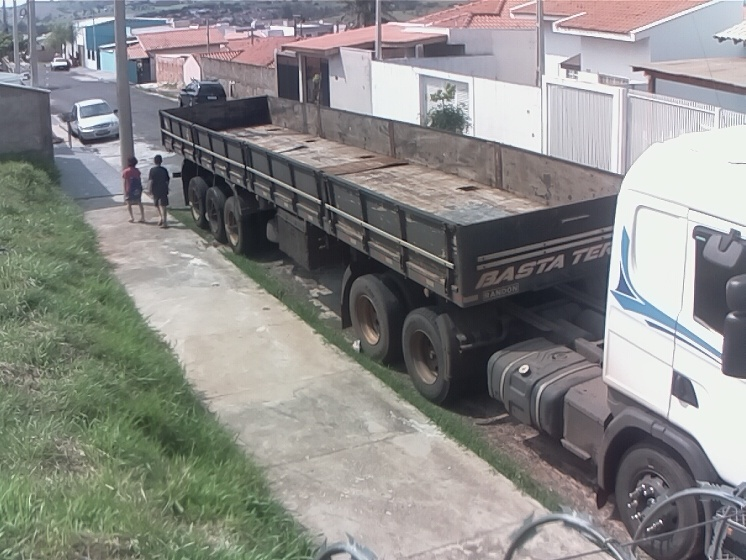person: (120, 154, 149, 226), (146, 152, 173, 229)
